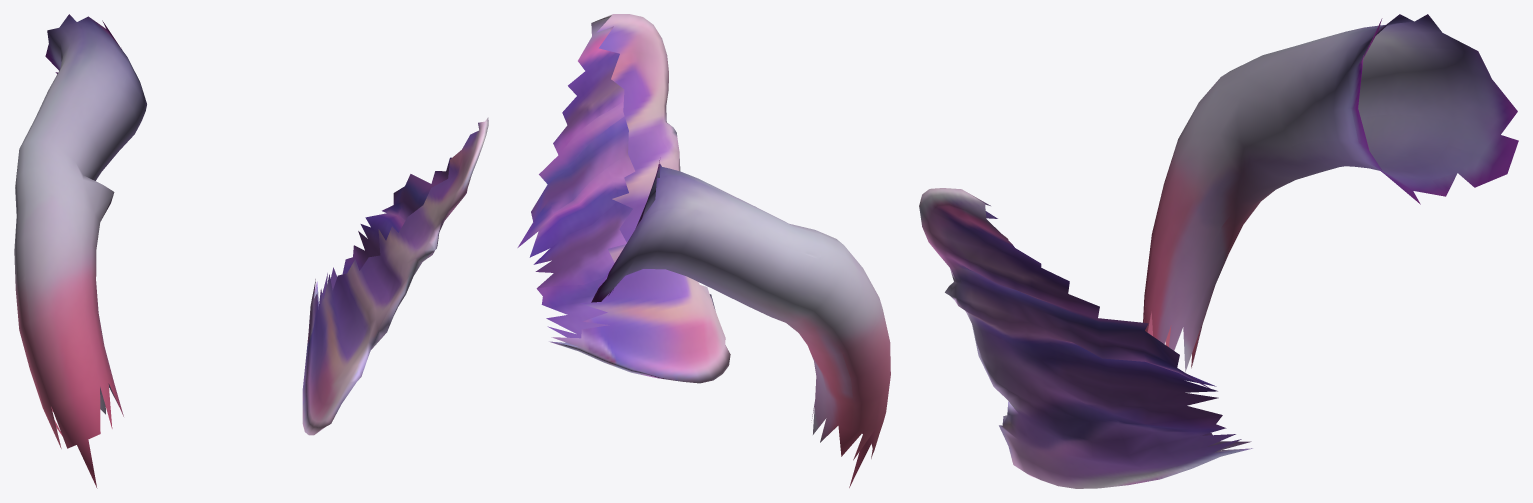
Rendered from Tentaculo1.obj.
3 views of the same model, side by side, from view 1: azimuth 30°, elevation 25°; view 2: azimuth 150°, elevation 25°; view 3: azimuth 270°, elevation 25° (orthographic). The views are drawn at different scales.
Visible parts, largest first — view 1: Tentaculo1; view 2: Tentaculo1; view 3: Tentaculo1.
Boxes of the visible parts, x1=… form: Tentaculo1: x1=14, y1=14, x2=488, y2=488; Tentaculo1: x1=517, y1=14, x2=890, y2=487; Tentaculo1: x1=919, y1=14, x2=1518, y2=488.
Size of the model in its own units: 16.58 by 15.58 by 17.85.
